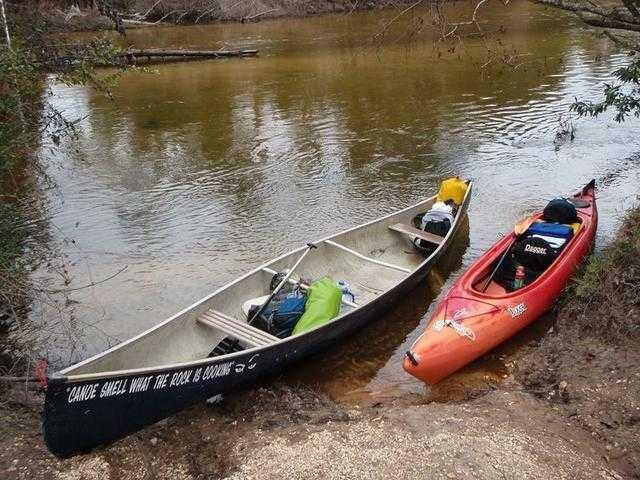kayak: (37, 171, 478, 457), (402, 178, 599, 387)
